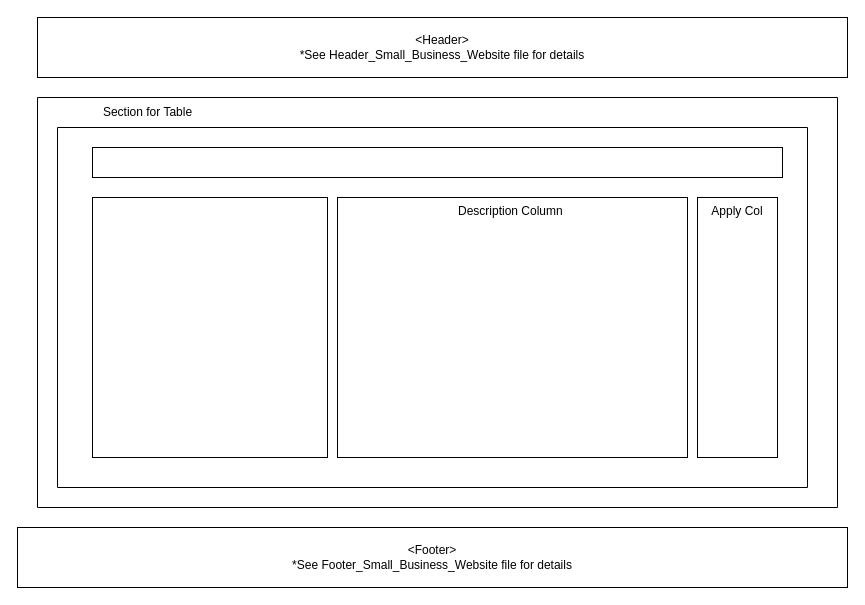
Image size: 865x605. Some labels were removed from this diagram. The shapes that lost their labels are listed below. From the top down, each one's box as (x1, y1, x2, y2) in pixels, then its label:
(92, 146, 782, 178): Table Header
(92, 196, 328, 458): Position column
